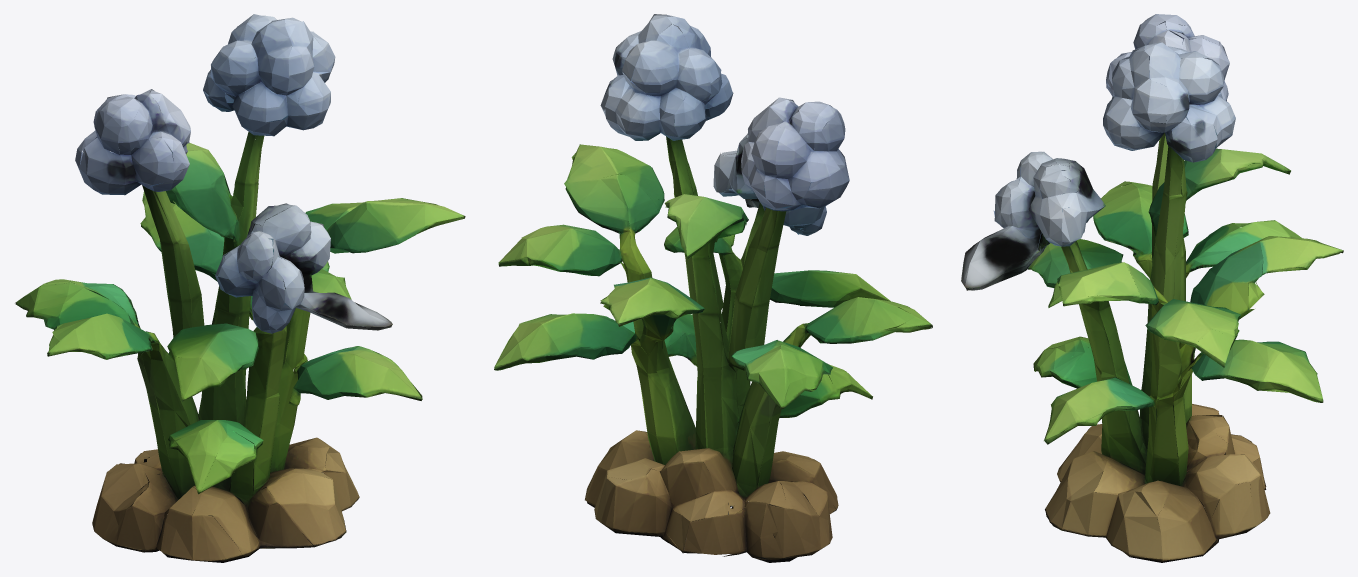
File: CloudBerry_mature.fbx
The picture shows the model from 3 angles, left to right: view 1: azimuth 30°, elevation 25°; view 2: azimuth 150°, elevation 25°; view 3: azimuth 270°, elevation 25°; orthographic projection.
Visible parts, largest first — view 1: CloudBerry_mature; view 2: CloudBerry_mature; view 3: CloudBerry_mature.
Boxes of the visible parts, box(x1,y1,x2,y2) form: CloudBerry_mature: box(15, 14, 465, 562); CloudBerry_mature: box(494, 14, 932, 562); CloudBerry_mature: box(961, 14, 1343, 562).
Size of the model in its own units: 1.61 by 2 by 1.38.
Materials: 1 (1 with a texture image).
